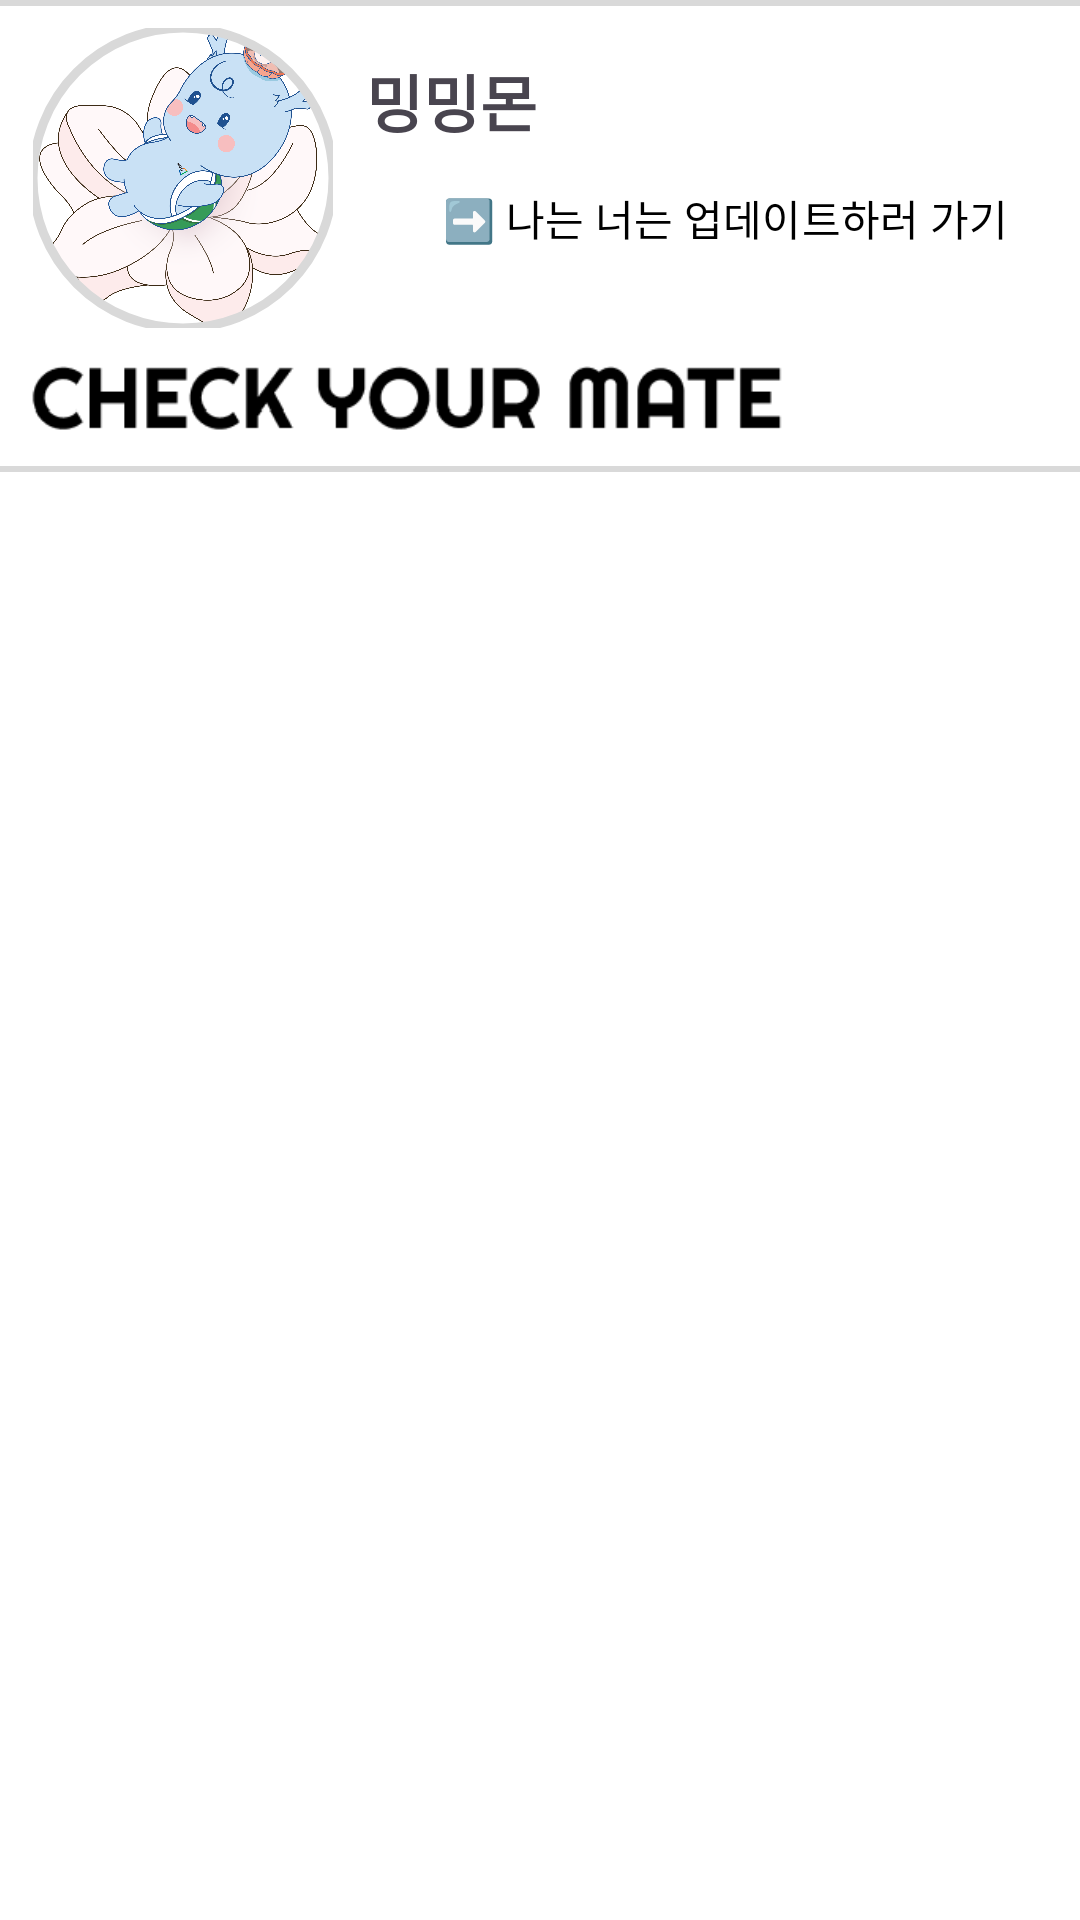

Icon click points for this 1080×1920 phone screenshot, format (x=x, y=y):
flower kgu: (x=183, y=178)
